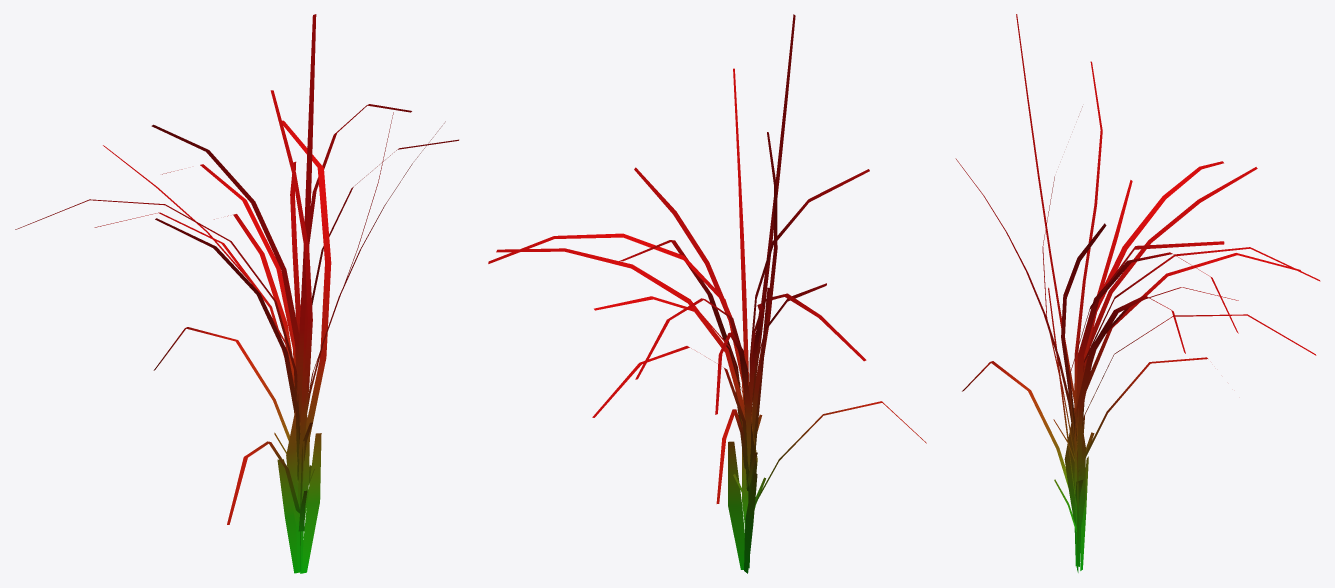
The model's file is Sea Wheatgrass_LOD2_Var4_ui2oagjia.fbx.
3 renders of one model, left to right at view 1: azimuth 30°, elevation 25°; view 2: azimuth 150°, elevation 25°; view 3: azimuth 270°, elevation 25°, orthographic. The views are drawn at different scales.
Parts seen in each view (by area): view 1: _qdxa_Var4_LOD2; view 2: _qdxa_Var4_LOD2; view 3: _qdxa_Var4_LOD2.
Part boxes in pixels (box(x1,y1,x2,y2)): _qdxa_Var4_LOD2: box(15, 14, 458, 573); _qdxa_Var4_LOD2: box(488, 14, 926, 573); _qdxa_Var4_LOD2: box(955, 14, 1320, 572).
Bounding box in the file's own units: 52.22 × 69.2 × 41.74.
